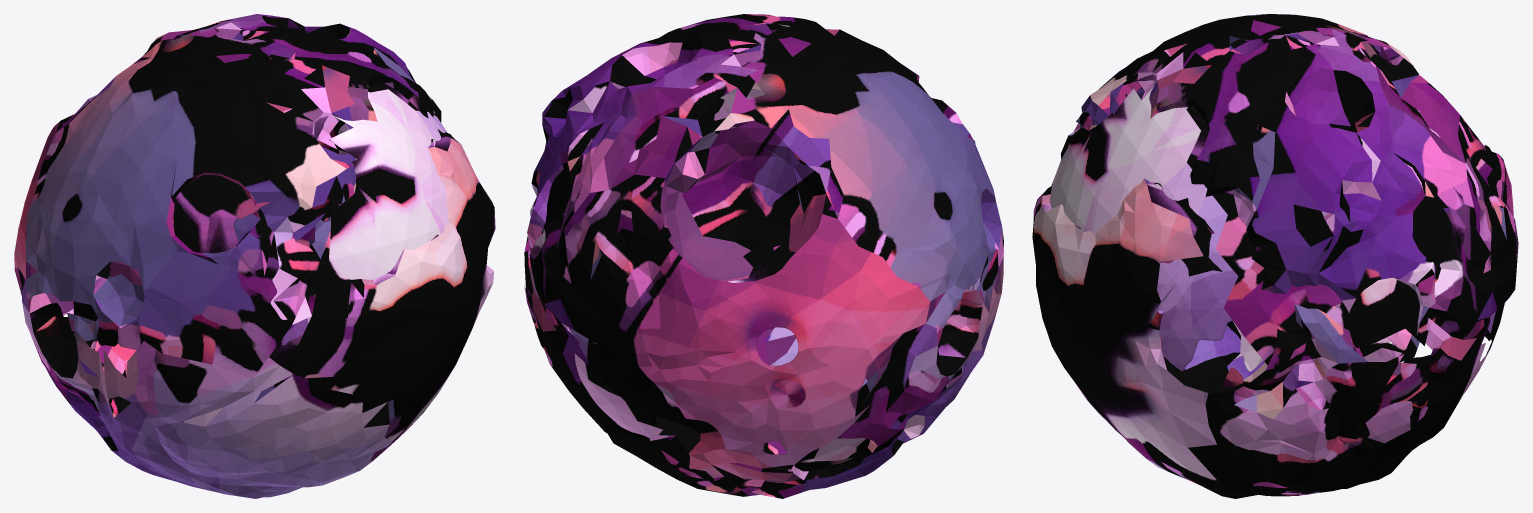
The model's file is lake烘焙.fbx.
The picture shows the model from 3 angles, left to right: view 1: azimuth 30°, elevation 25°; view 2: azimuth 150°, elevation 25°; view 3: azimuth 270°, elevation 25°; orthographic projection. The views are drawn at different scales.
Visible parts, largest first — view 1: lake; view 2: lake; view 3: lake.
Part boxes in pixels (x1=…): lake: x1=14, y1=14, x2=495, y2=498; lake: x1=524, y1=14, x2=1003, y2=498; lake: x1=1032, y1=14, x2=1518, y2=498.
Size of the model in its own units: 375 by 387 by 377.
1 material, 1 textured.
